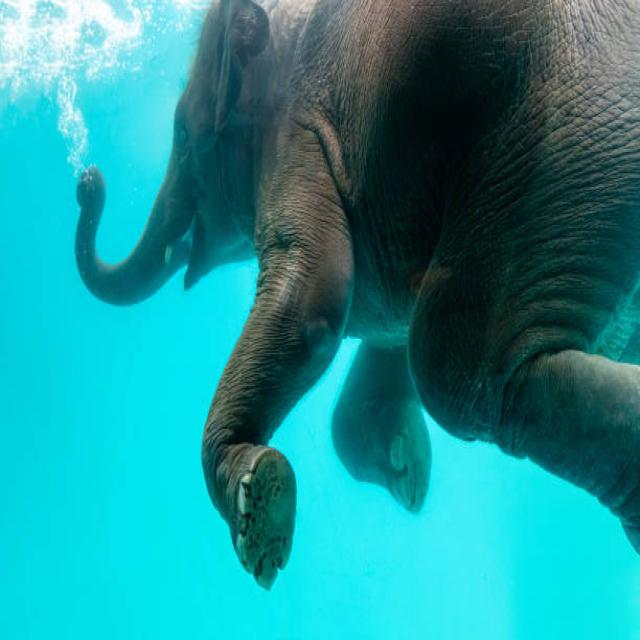Elephant: (77, 8, 640, 583)
